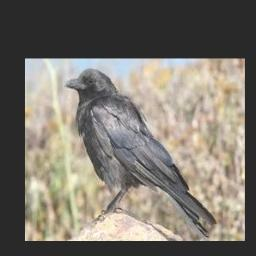Crow: (64, 68, 216, 241)
